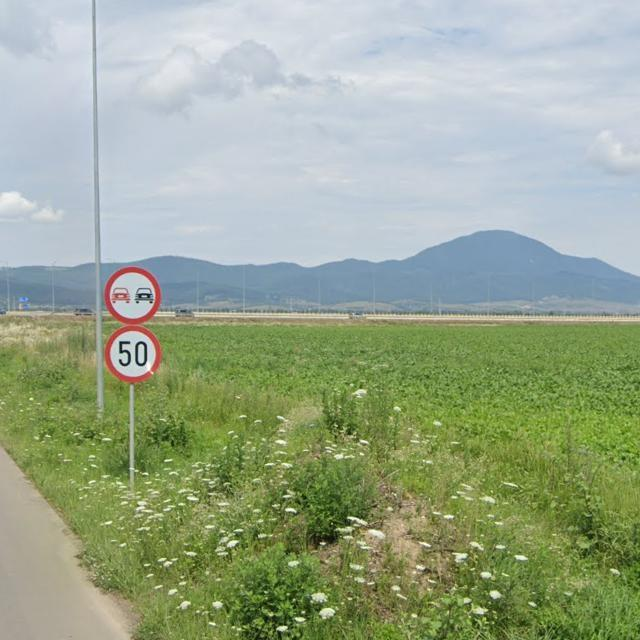forb_overtake: (104, 267, 163, 325)
forb_speed_over_50: (105, 328, 165, 382)
